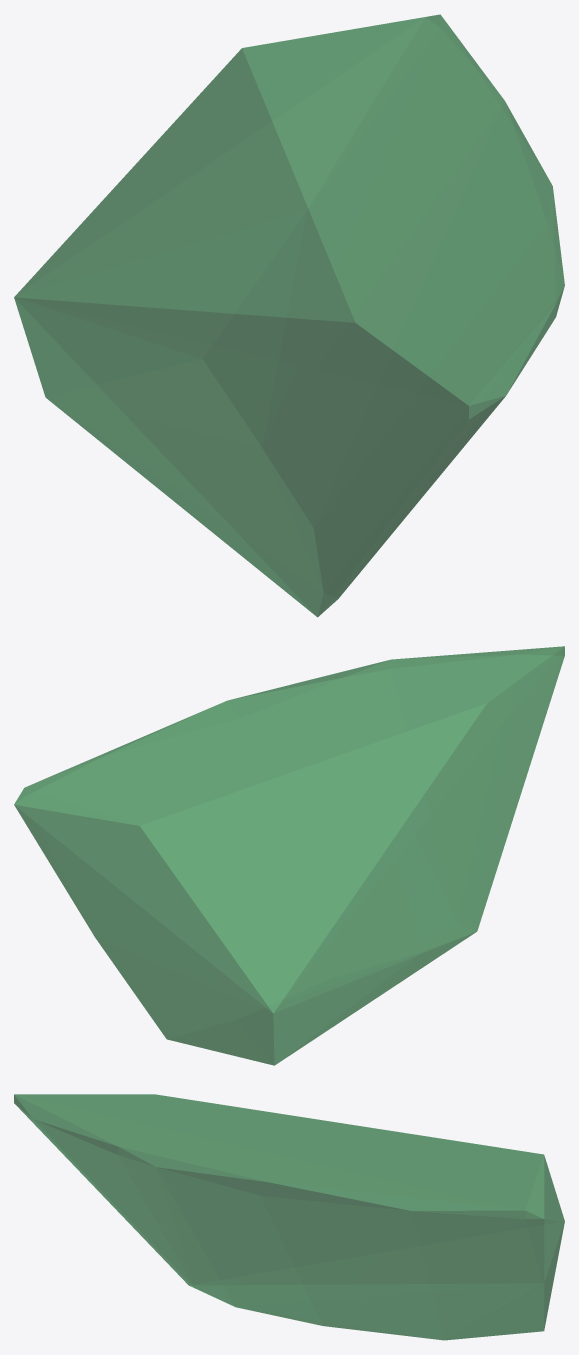
3 renders of one model, top to bottom at view 1: azimuth 30°, elevation 25°; view 2: azimuth 150°, elevation 25°; view 3: azimuth 270°, elevation 25°, orthographic. The views are drawn at different scales.
Visible parts, largest first — view 1: Shape_IndexedFaceSet.008_Shape_IndexedFaceSet.16778; view 2: Shape_IndexedFaceSet.008_Shape_IndexedFaceSet.16778; view 3: Shape_IndexedFaceSet.008_Shape_IndexedFaceSet.16778.
Boxes of the visible parts, x1=… form: Shape_IndexedFaceSet.008_Shape_IndexedFaceSet.16778: x1=14, y1=14, x2=564, y2=617; Shape_IndexedFaceSet.008_Shape_IndexedFaceSet.16778: x1=14, y1=646, x2=564, y2=1065; Shape_IndexedFaceSet.008_Shape_IndexedFaceSet.16778: x1=14, y1=1094, x2=564, y2=1340.
Size of the model in its own units: 0.226 by 0.1785 by 0.4364.
